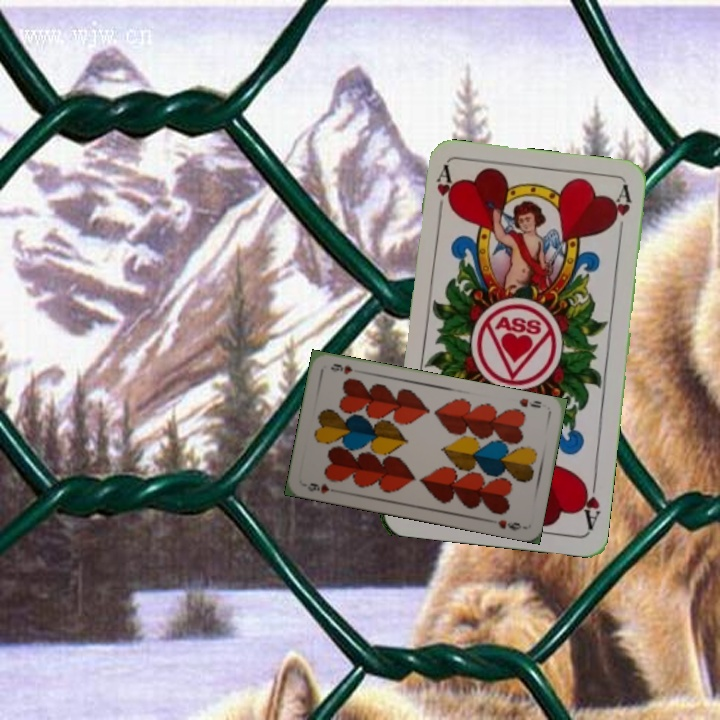H9: (304, 479, 332, 497), (515, 394, 544, 411)
HA: (575, 472, 602, 532), (432, 163, 454, 222)
